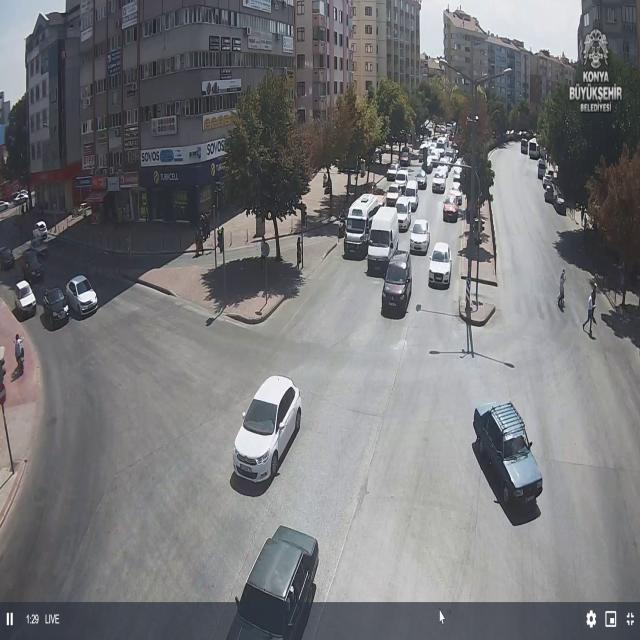Car: (223, 373, 310, 494), (230, 526, 321, 636), (473, 402, 543, 509), (381, 252, 413, 314), (65, 275, 99, 317), (41, 286, 70, 324), (428, 242, 452, 287), (13, 280, 37, 318), (409, 219, 431, 253)
Van: (338, 193, 381, 260), (367, 203, 400, 270)
